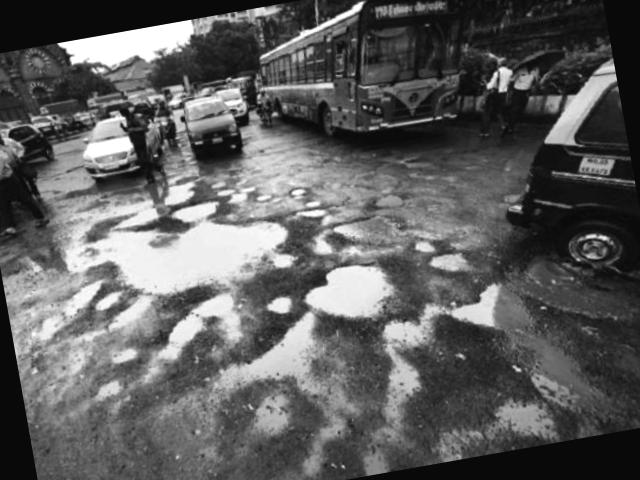Pothole: (5, 148, 303, 326), (426, 239, 640, 459), (225, 306, 348, 454), (294, 252, 406, 337), (147, 298, 258, 368), (331, 203, 424, 257)
